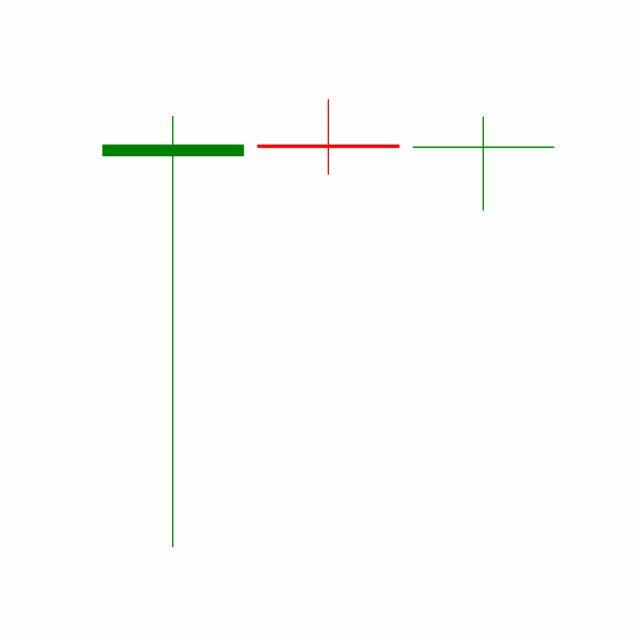Spinning Top: (406, 116, 562, 212)
